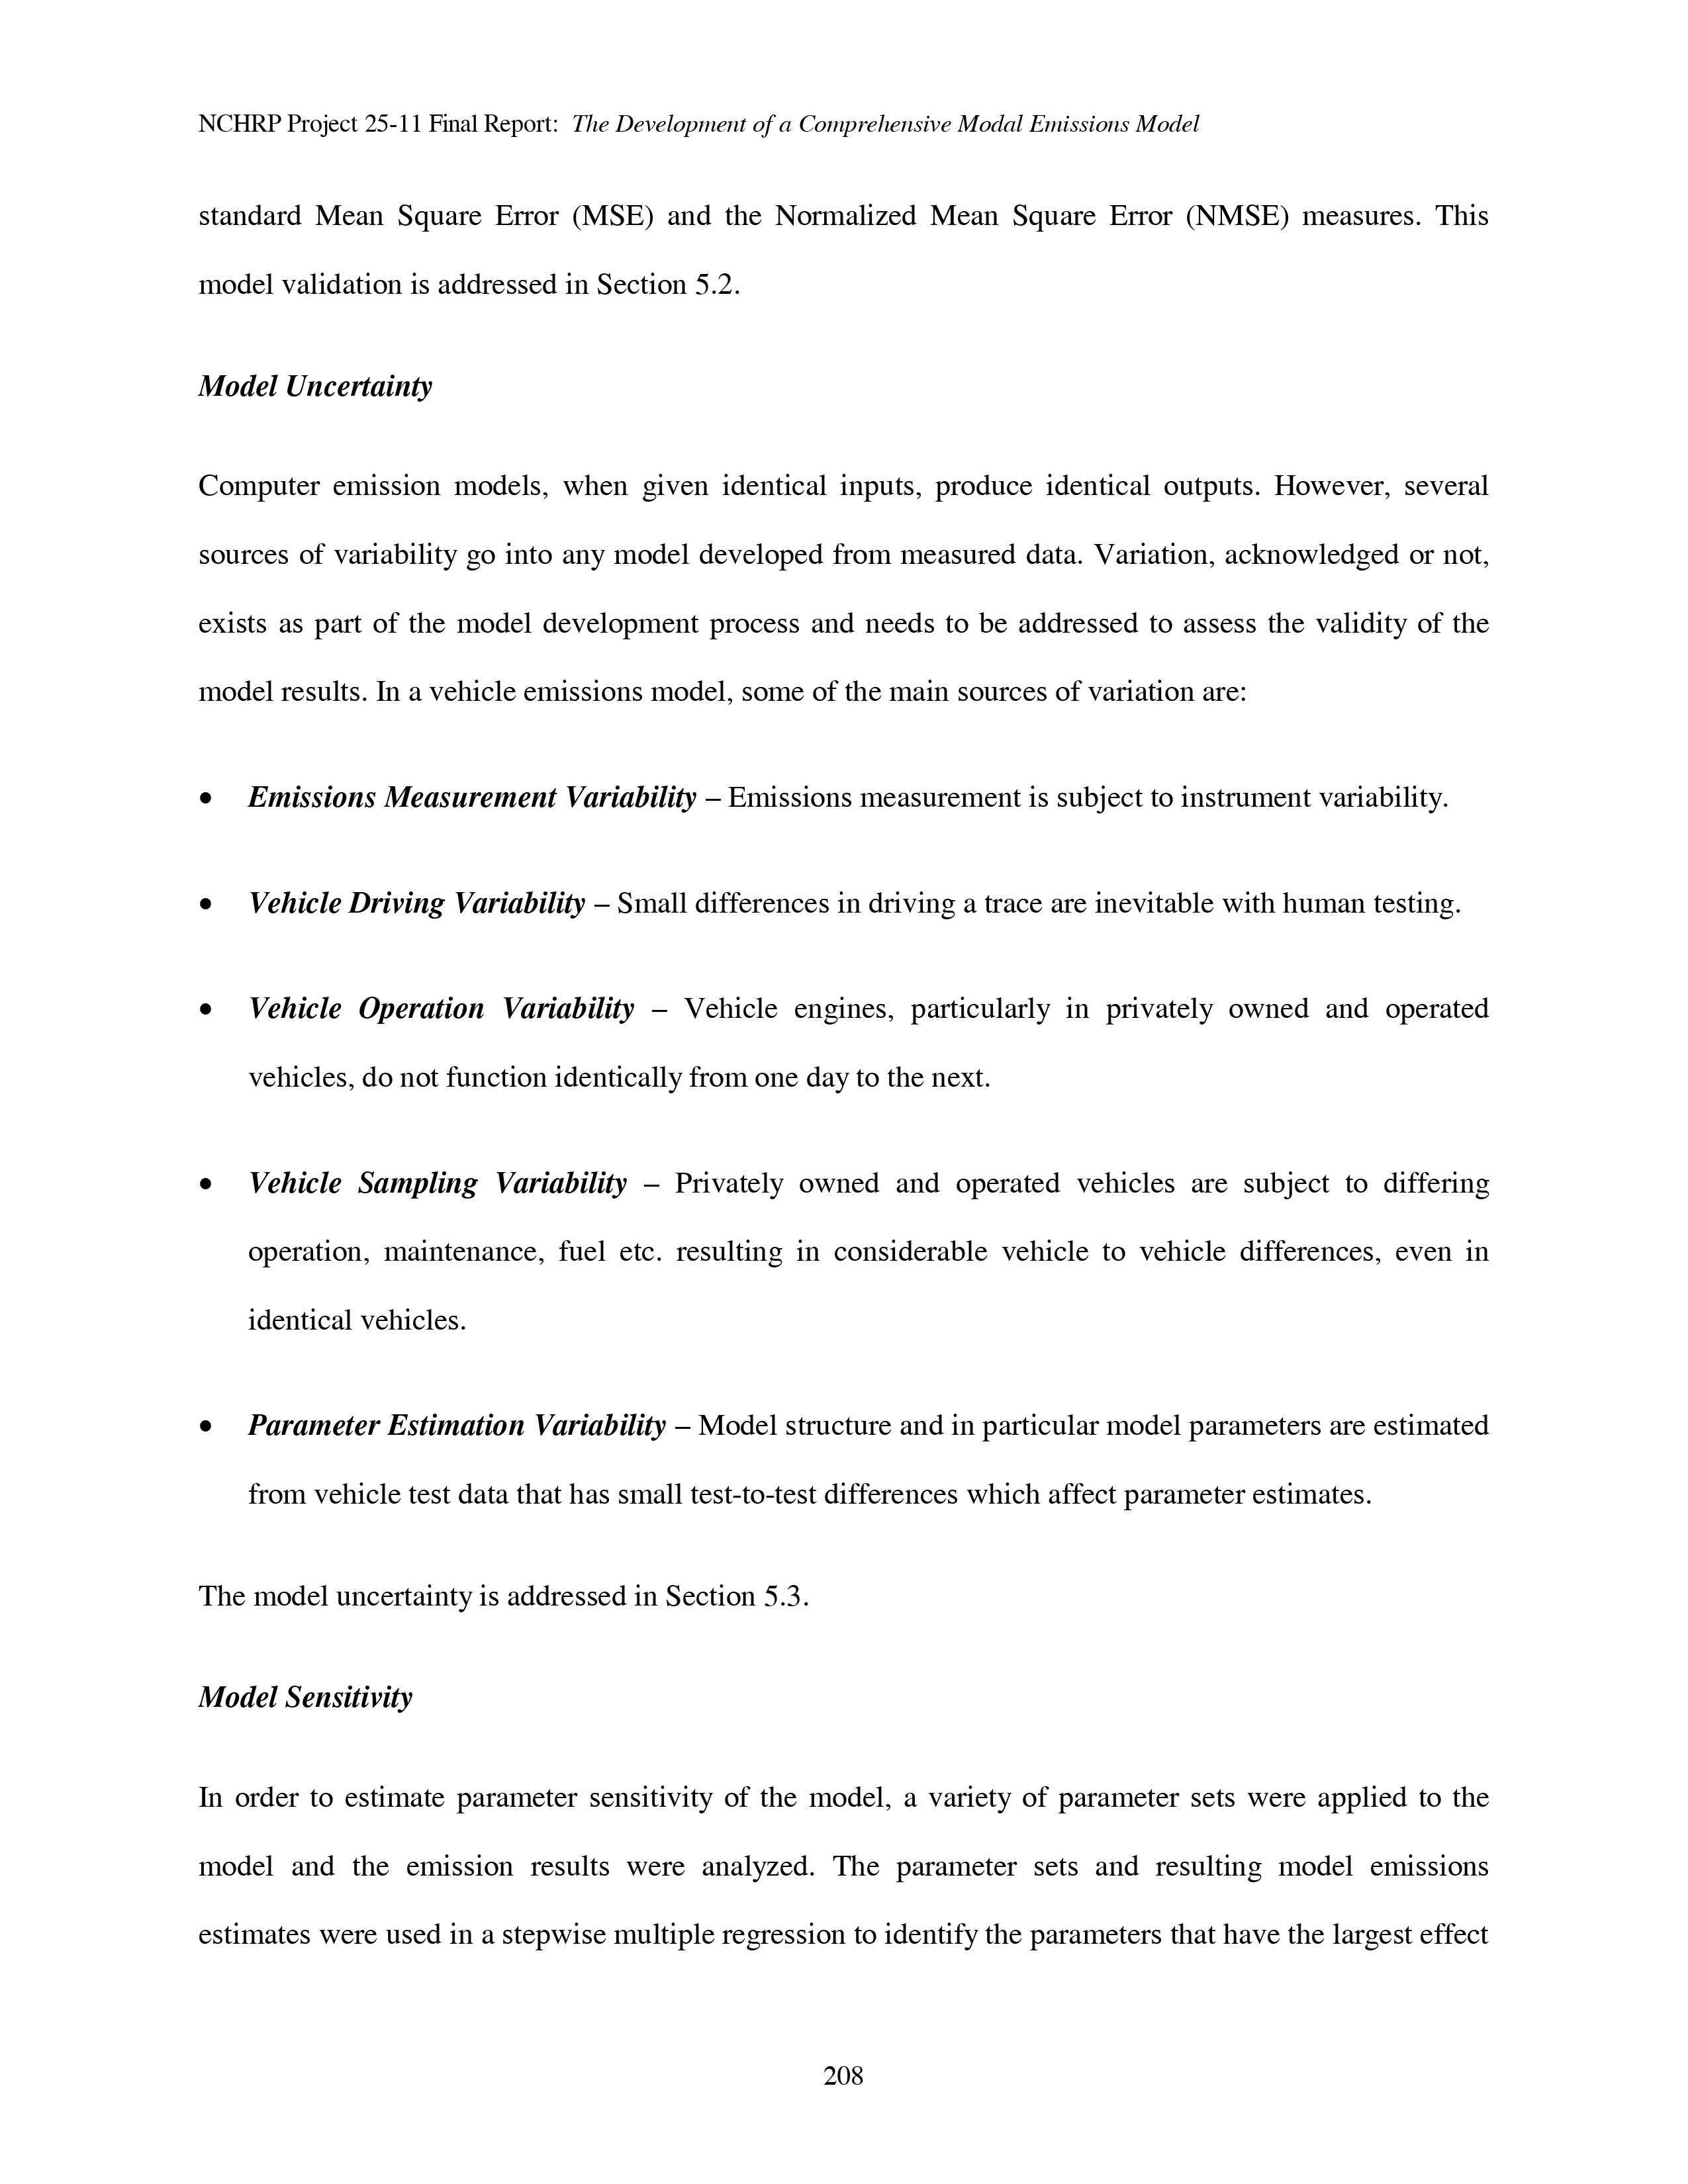list: (186, 750, 1500, 1542)
section: (186, 1668, 429, 1741), (179, 356, 449, 409)
text: (179, 463, 1511, 707), (188, 99, 1491, 310), (172, 1767, 1511, 1959), (161, 1549, 837, 1618)
